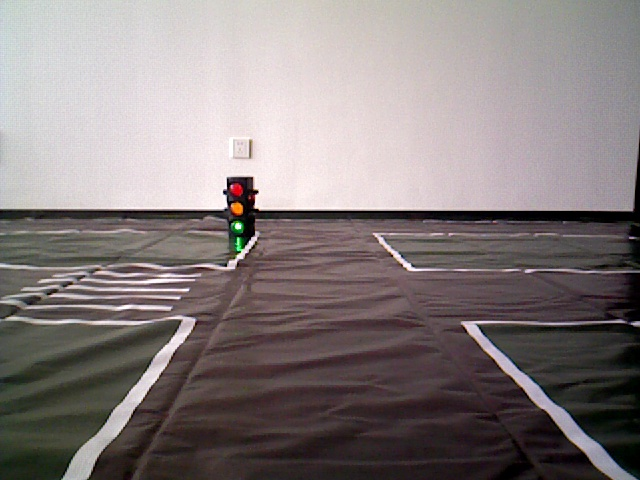green: (225, 177, 251, 234)
